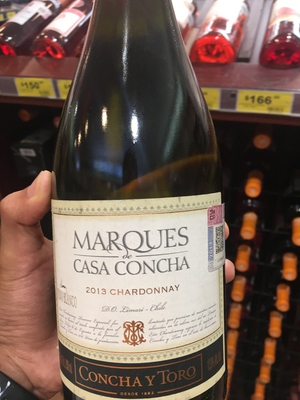marques de casa concha chardonnay: (41, 14, 231, 388)
